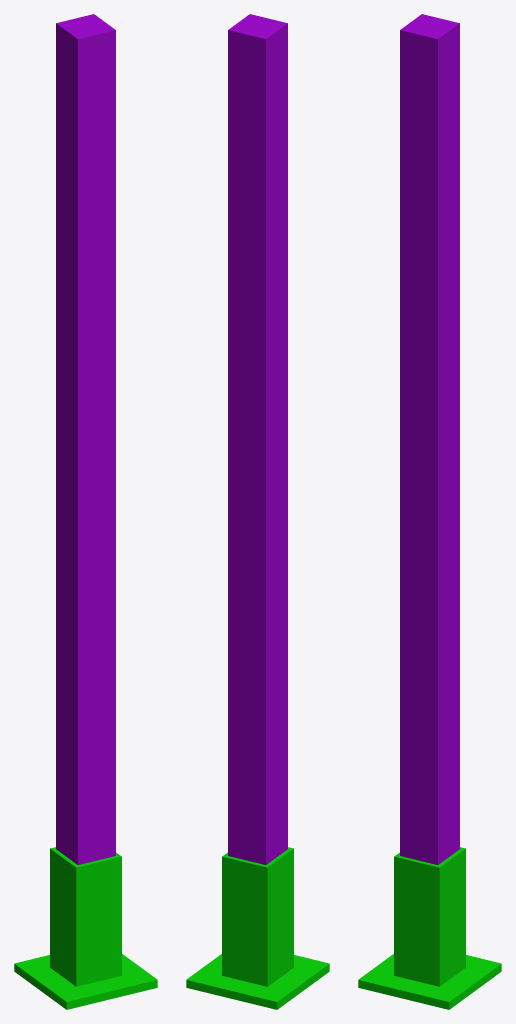
File: prop_post_120.FBX
The picture shows the model from 3 angles, left to right: view 1: azimuth 30°, elevation 25°; view 2: azimuth 150°, elevation 25°; view 3: azimuth 330°, elevation 25°; orthographic projection.
Parts seen in each view (by area): view 1: post_120; view 2: post_120; view 3: post_120.
Boxes of the visible parts, <box> form: post_120: <box>14,14,157,1009</box>; post_120: <box>186,14,329,1009</box>; post_120: <box>358,14,501,1009</box>.
Size of the model in its own units: 12 by 120 by 12.
